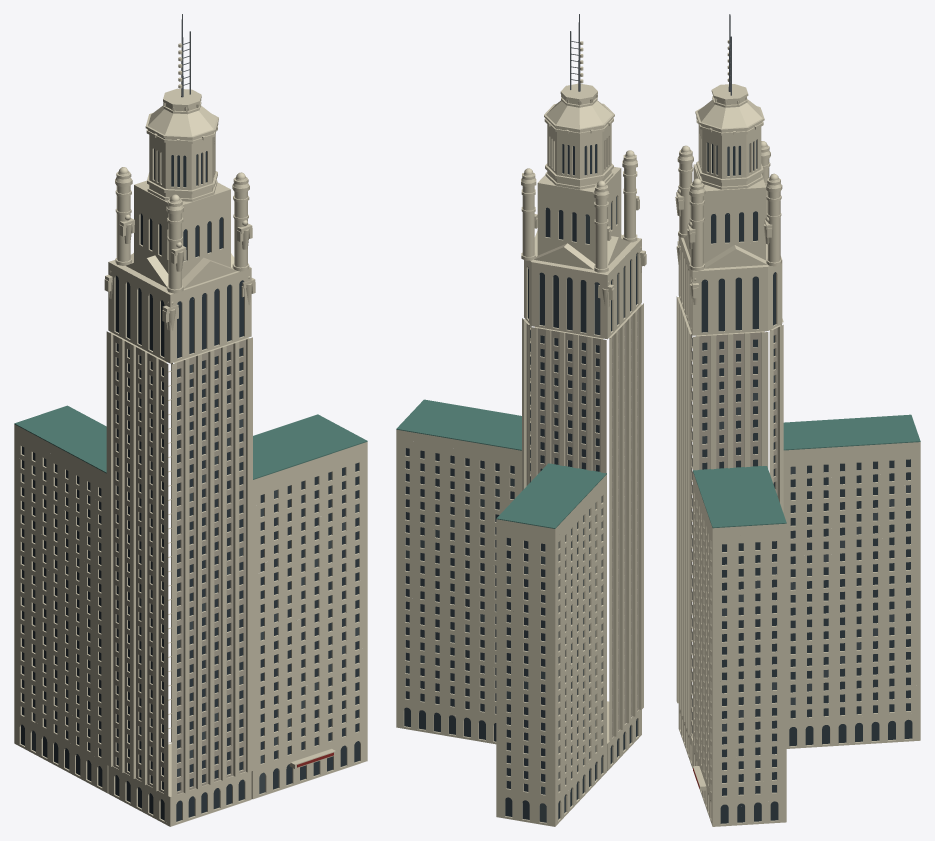
The model's file is leveque-tower-near.glb.
3 views of the same model, side by side, from view 1: azimuth 30°, elevation 25°; view 2: azimuth 150°, elevation 25°; view 3: azimuth 270°, elevation 25° (orthographic). The views are drawn at different scales.
Visible parts, largest first — view 1: leveque-tower-0-stone, leveque-tower-0-glass, leveque-tower-0-recess, leveque-tower-0-lamp, leveque-tower-0-copper, leveque-tower-0-glow; view 2: leveque-tower-0-stone, leveque-tower-0-glass, leveque-tower-0-lamp, leveque-tower-0-recess, leveque-tower-0-copper, leveque-tower-0-glow; view 3: leveque-tower-0-stone, leveque-tower-0-glass, leveque-tower-0-lamp, leveque-tower-0-copper, leveque-tower-0-recess, leveque-tower-0-glow.
Boxes of the visible parts, box(x1,y1,x2,y2) form: leveque-tower-0-stone: box(14, 43, 367, 826); leveque-tower-0-glass: box(21, 149, 359, 821); leveque-tower-0-recess: box(113, 335, 245, 794); leveque-tower-0-lamp: box(115, 88, 249, 293); leveque-tower-0-copper: box(14, 405, 367, 479); leveque-tower-0-glow: box(22, 349, 358, 793); leveque-tower-0-stone: box(396, 41, 646, 826); leveque-tower-0-glass: box(404, 144, 637, 819); leveque-tower-0-lamp: box(521, 83, 637, 272); leveque-tower-0-recess: box(526, 308, 638, 740); leveque-tower-0-copper: box(396, 399, 606, 528); leveque-tower-0-glow: box(405, 214, 602, 822); leveque-tower-0-stone: box(675, 40, 920, 826); leveque-tower-0-glass: box(692, 140, 912, 823); leveque-tower-0-lamp: box(677, 84, 782, 270); leveque-tower-0-copper: box(693, 414, 920, 528); leveque-tower-0-recess: box(691, 328, 777, 737); leveque-tower-0-glow: box(692, 145, 910, 731).
Size of the model in its own units: 62.47 by 189 by 57.43.
